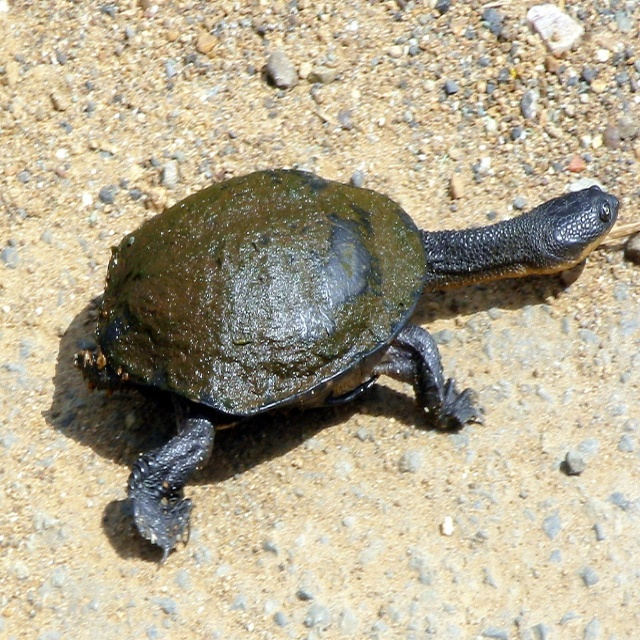Tortoise: (75, 168, 619, 572)
